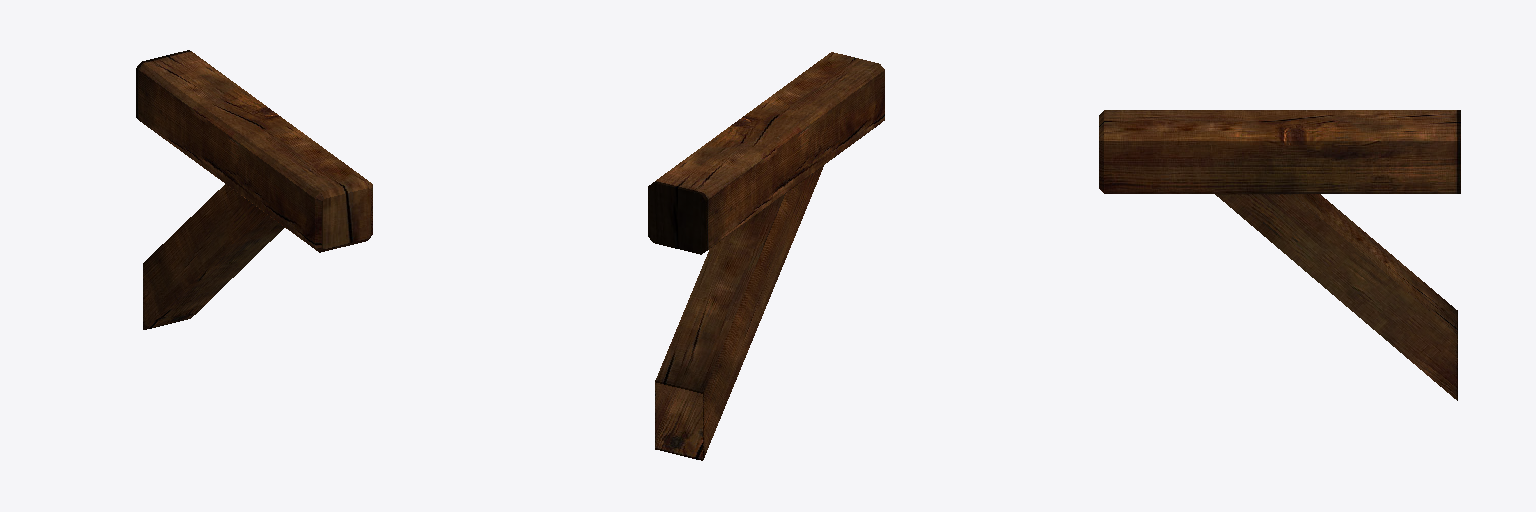
3 renders of one model, left to right at view 1: azimuth 30°, elevation 25°; view 2: azimuth 150°, elevation 25°; view 3: azimuth 270°, elevation 25°, orthographic.
Parts seen in each view (by area): view 1: Support_Wood_003; view 2: Support_Wood_003; view 3: Support_Wood_003.
Part boxes in pixels (x1,y1,x2,y2): Support_Wood_003: (136,50,372,329); Support_Wood_003: (648,52,884,460); Support_Wood_003: (1099,110,1460,400).
Size of the model in its own units: 12 by 53.03 by 65.
Materials: 1 (1 with a texture image).